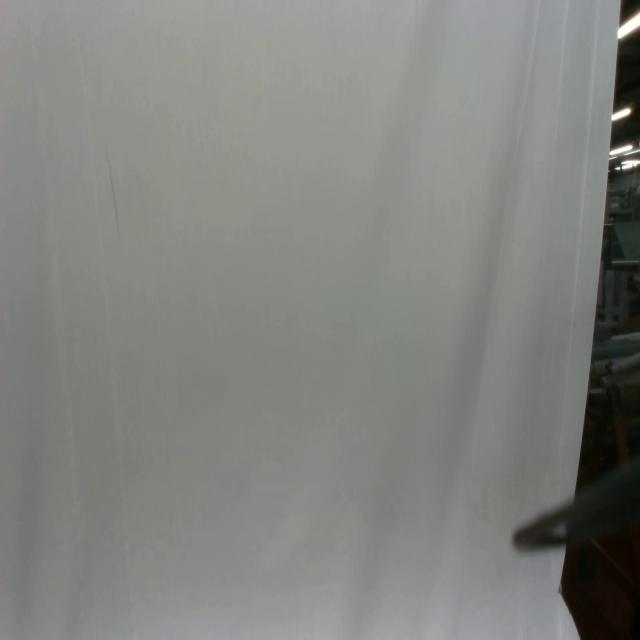crease: (31, 0, 140, 636)
